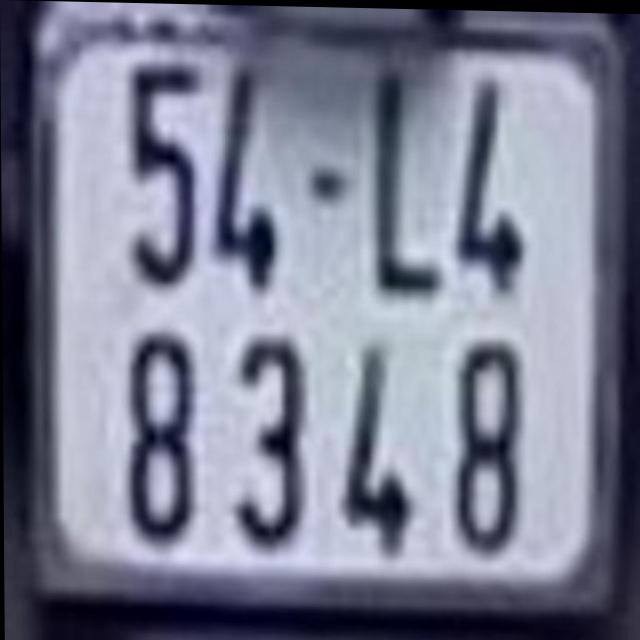3: (237, 331, 306, 545)
4: (339, 339, 410, 552), (213, 69, 279, 287), (463, 79, 523, 285)
5: (129, 62, 197, 280)
8: (458, 339, 519, 553), (129, 338, 192, 542)
L: (373, 69, 442, 291)
